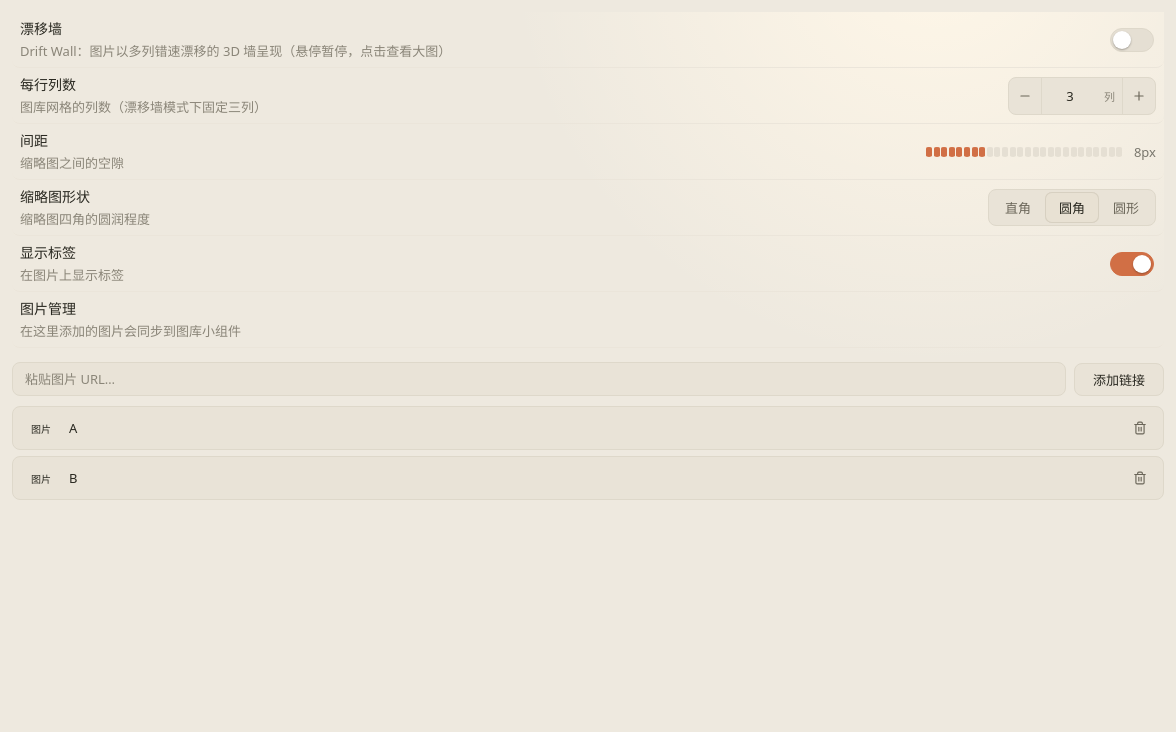
Scenario: GalleryConfig · 写前现读（P1-2(a) 回归锁） › 外部已删除 B（loadGallery 不含它）后添加新 URL → 提交载荷只含 [A, 新图]，B 不复活
Expected: the text "A" is shown, top-left (69, 419), bottom-right (77, 437)
Expected: the text "B" is shown, top-left (69, 469), bottom-right (78, 487)
本页此时添加新 URL：commit 必须以 loadGallery 现值为基底。
Step 1. Type "https://c.example/3.png" into the field named "添加图片链接" → (539, 379), box top-left (12, 362), bottom-right (1066, 396)
Then press Enter
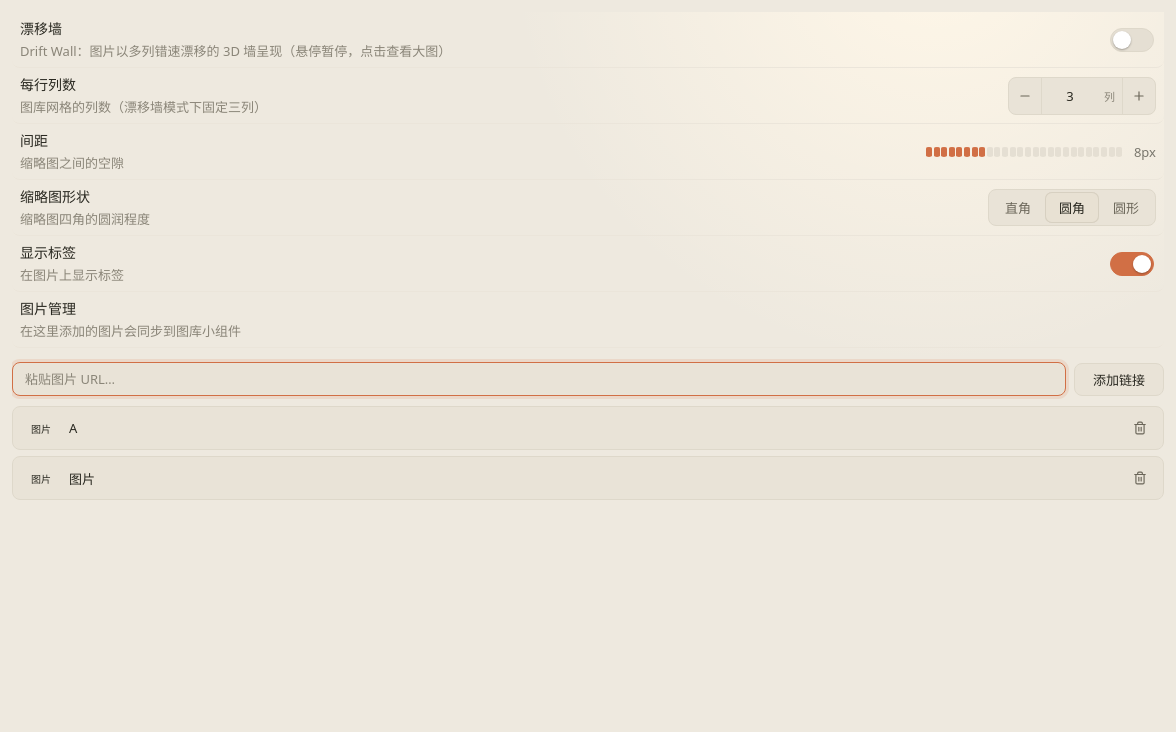
Expected: the text "A" is shown, top-left (69, 419), bottom-right (77, 437)
Expected: the text "B" is gone
